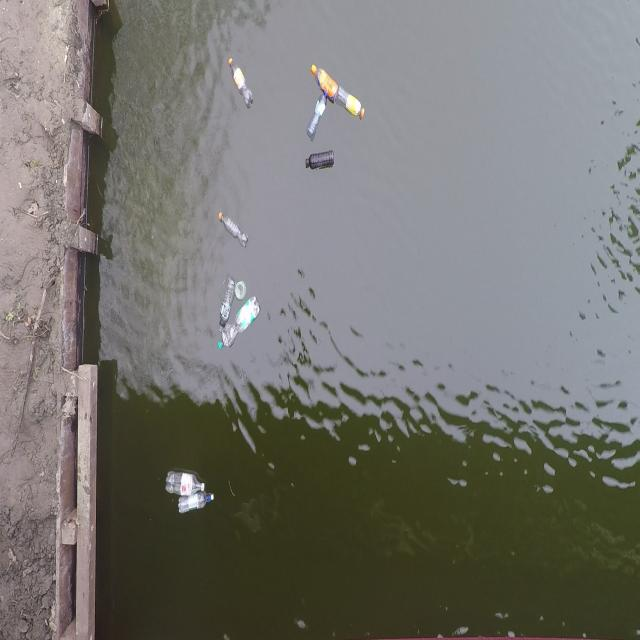Bouteille plastique: (217, 284, 266, 369), (304, 52, 343, 106), (332, 71, 371, 124), (158, 462, 208, 502), (224, 53, 258, 111), (302, 85, 333, 144), (213, 205, 250, 253), (172, 485, 216, 524), (216, 272, 236, 337), (300, 145, 339, 174)
